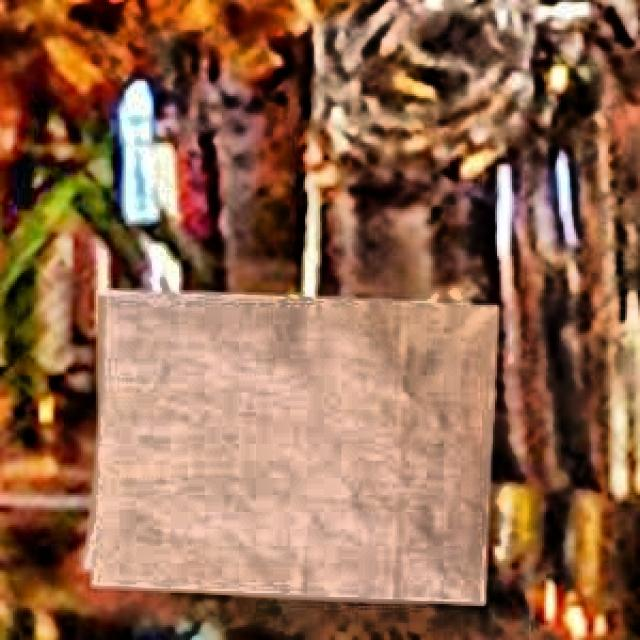Paper-bag: (62, 270, 513, 612)
